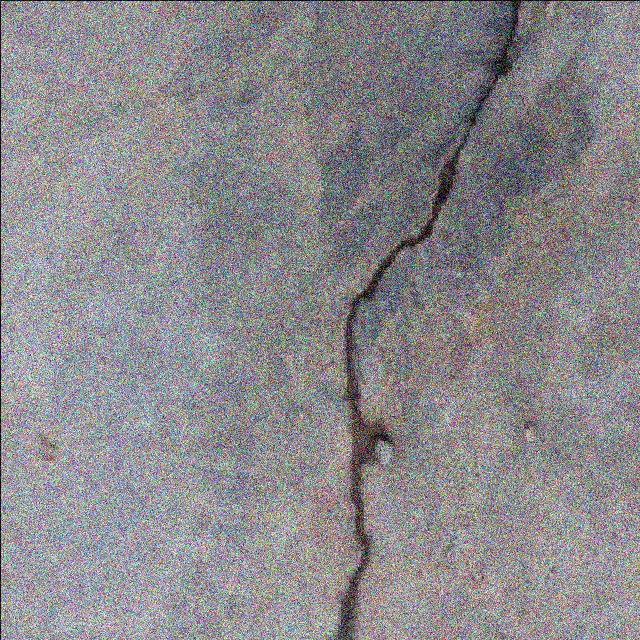SurfaceCrack: (318, 10, 540, 640)
